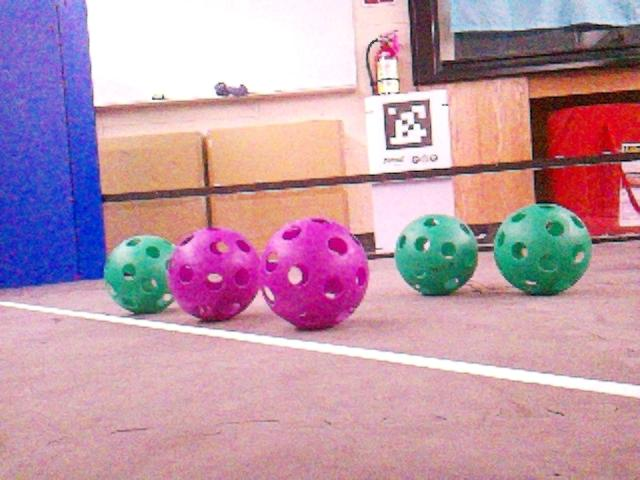Green: (492, 202, 592, 294), (393, 213, 480, 295), (102, 235, 177, 315)
Purple: (259, 216, 370, 327), (166, 226, 265, 321)
